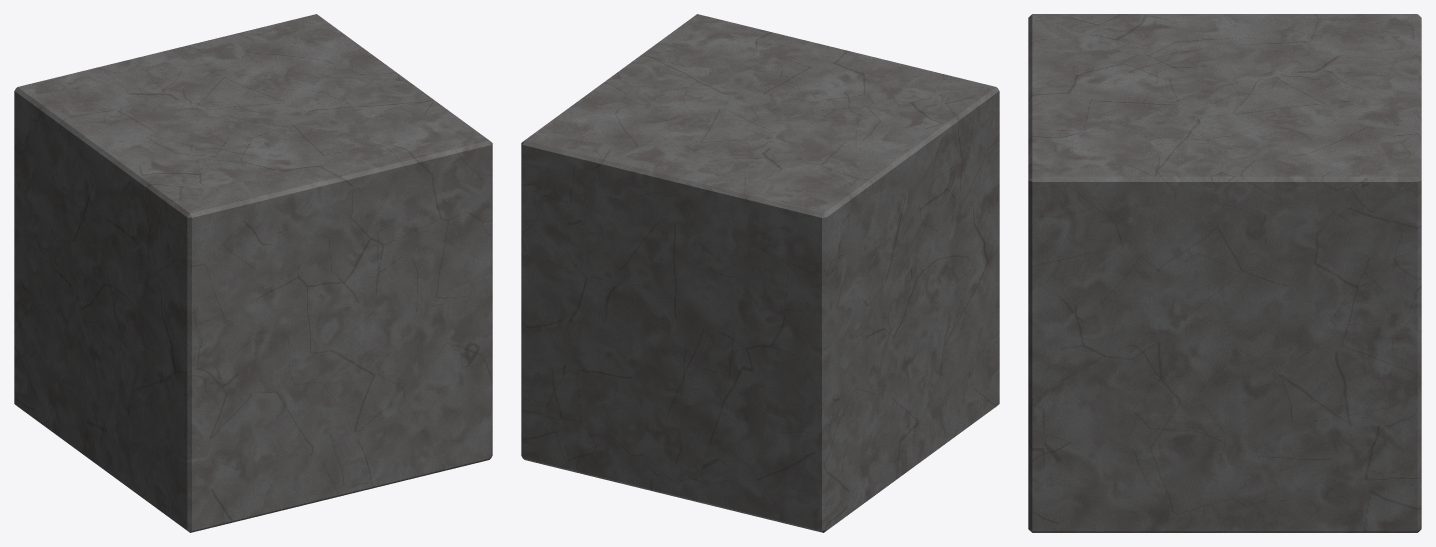
The model's file is cube_stone.glb.
3 renders of one model, left to right at view 1: azimuth 30°, elevation 25°; view 2: azimuth 150°, elevation 25°; view 3: azimuth 270°, elevation 25°, orthographic. The views are drawn at different scales.
Parts seen in each view (by area): view 1: Cube; view 2: Cube; view 3: Cube.
Part boxes in pixels (x1=…): Cube: x1=14, y1=14, x2=492, y2=532; Cube: x1=521, y1=14, x2=999, y2=532; Cube: x1=1028, y1=14, x2=1421, y2=532.
Size of the model in its own units: 1 by 1 by 1.
Materials: 1 (1 with a texture image).
